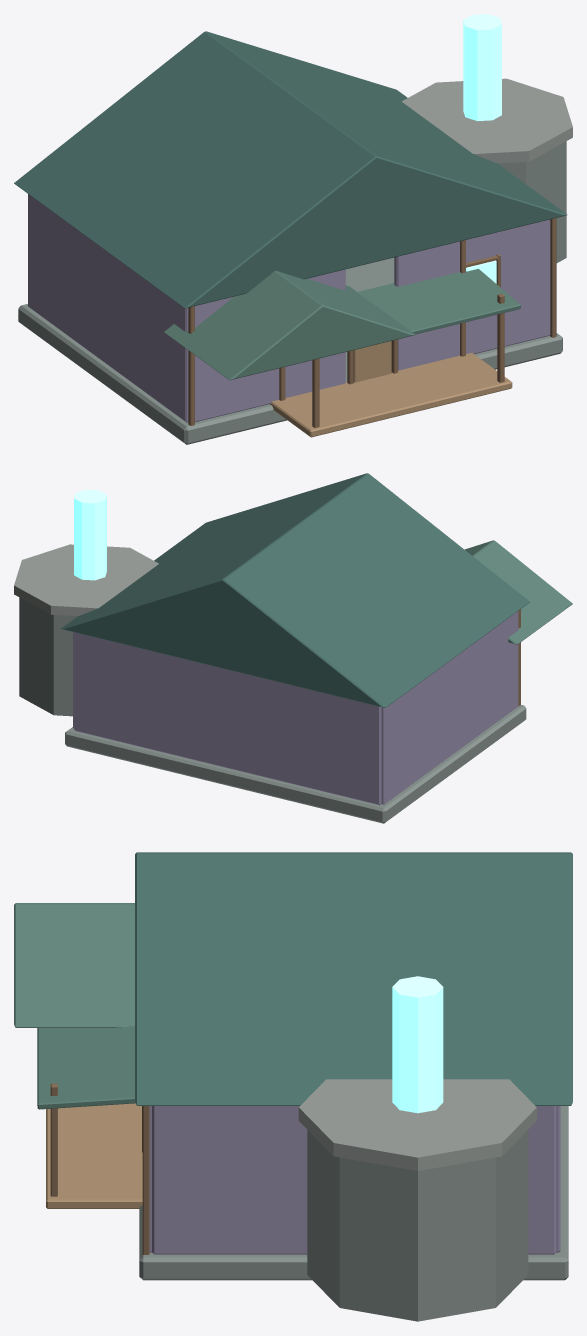
Rendered from LumenArchiveLodge.glb.
The picture shows the model from 3 angles, top to bottom: view 1: azimuth 30°, elevation 25°; view 2: azimuth 150°, elevation 25°; view 3: azimuth 270°, elevation 25°; orthographic projection. The views are drawn at different scales.
Parts seen in each view (by area): view 1: LumenArchiveLodge; view 2: LumenArchiveLodge; view 3: LumenArchiveLodge.
Boxes of the visible parts, left/top/right/bottom form: LumenArchiveLodge: left=14, top=14, right=572, bottom=444; LumenArchiveLodge: left=14, top=473, right=572, bottom=823; LumenArchiveLodge: left=14, top=852, right=572, bottom=1321.
Size of the model in its own units: 34.03 by 16.2 by 26.3.
